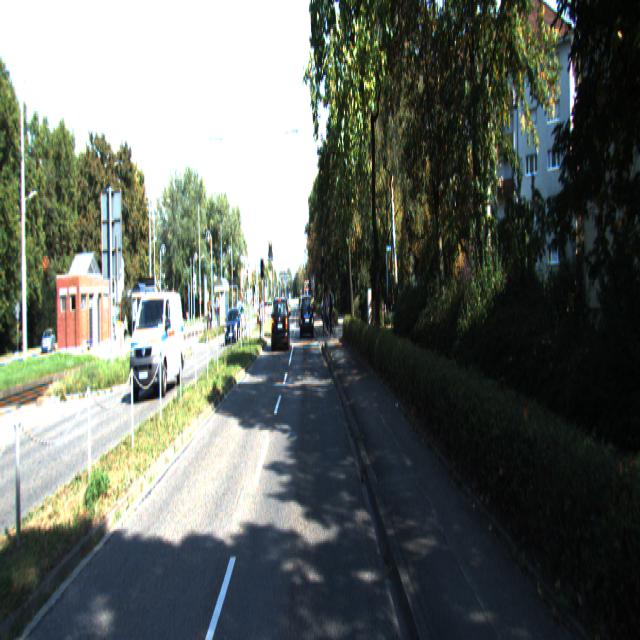Car: (130, 294, 186, 404), (272, 300, 290, 355), (225, 307, 242, 347), (300, 294, 314, 340)
